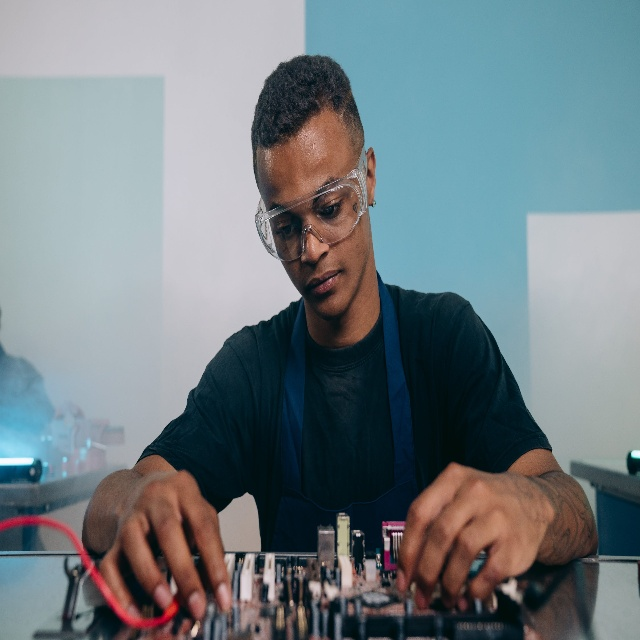Gafas: (254, 167, 366, 259)
Sin_guantes: (393, 455, 544, 610), (97, 468, 234, 627)
